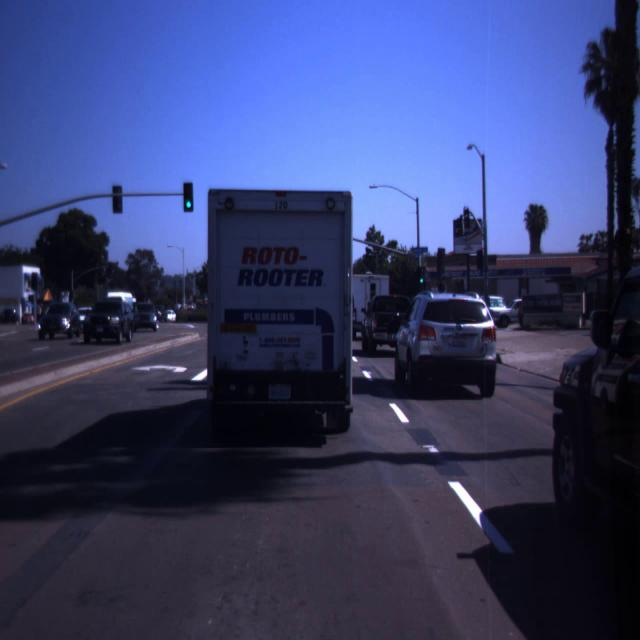go: (184, 188, 194, 208), (418, 270, 424, 283)
go traffic light: (184, 188, 194, 208), (418, 270, 424, 283)
